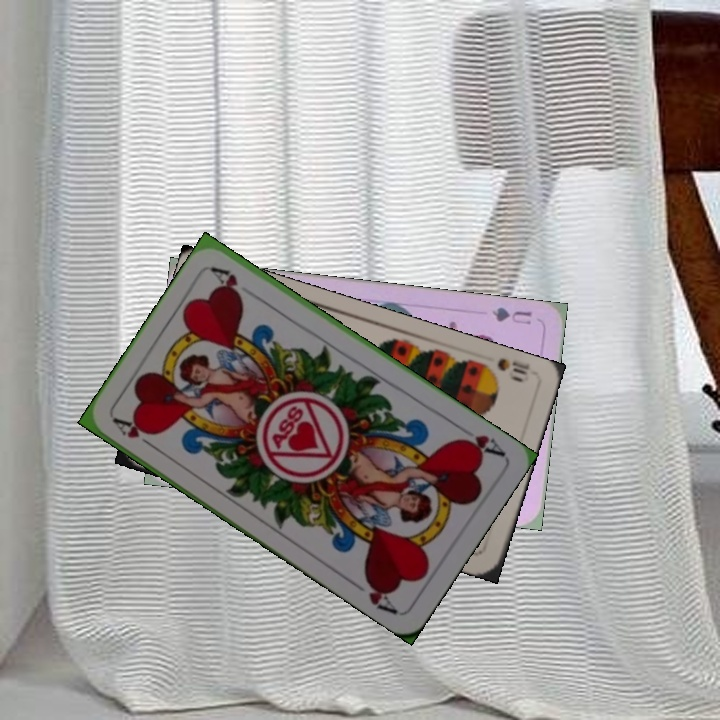GU: (486, 303, 535, 327)
HA: (109, 413, 161, 454), (453, 421, 507, 459)
S10: (476, 354, 532, 385)
